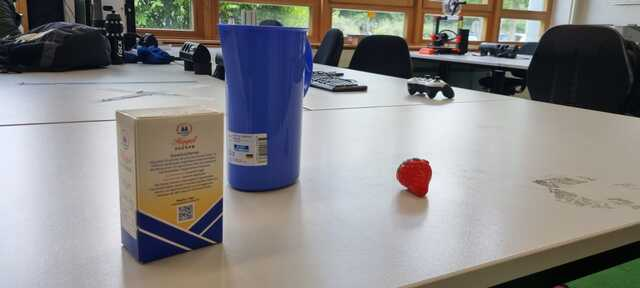004_sugar_box: (115, 104, 224, 265)
012_strawberry: (397, 158, 432, 197)
019_pitcher_base: (218, 24, 315, 192)
